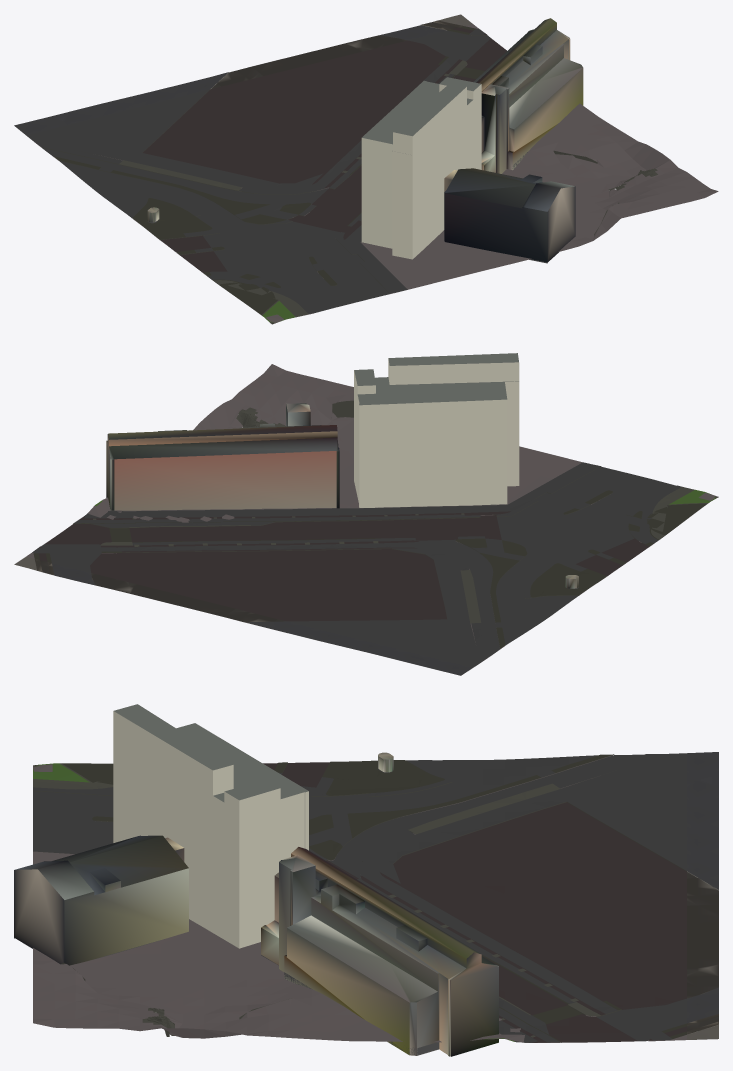
3 views of the same model, one above another, from view 1: azimuth 30°, elevation 25°; view 2: azimuth 150°, elevation 25°; view 3: azimuth 270°, elevation 25° (orthographic). The views are drawn at different scales.
Parts seen in each view (by area): view 1: c_m10_p06; view 2: c_m10_p06; view 3: c_m10_p06.
Boxes of the visible parts, x1,y1,x2,y2 form: c_m10_p06: [14, 14, 718, 324]; c_m10_p06: [14, 353, 718, 675]; c_m10_p06: [14, 704, 718, 1056].
Size of the model in its own units: 130 by 34.12 by 132.
